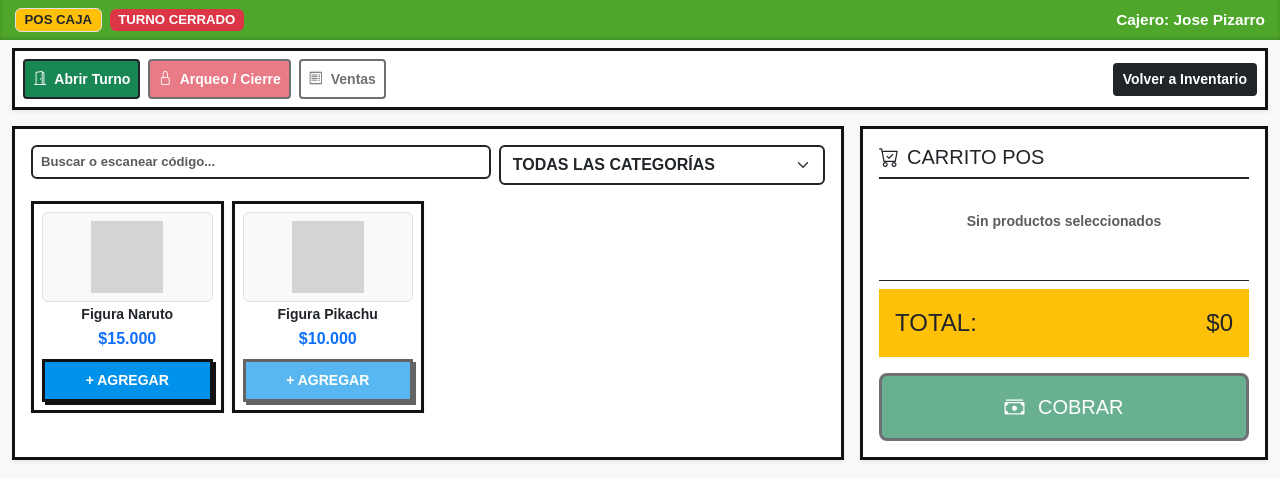
POS › filtra los productos por categoría
Select "POKÉMON" in the dropdown. click: (662, 165)
box: [499, 145, 825, 185]
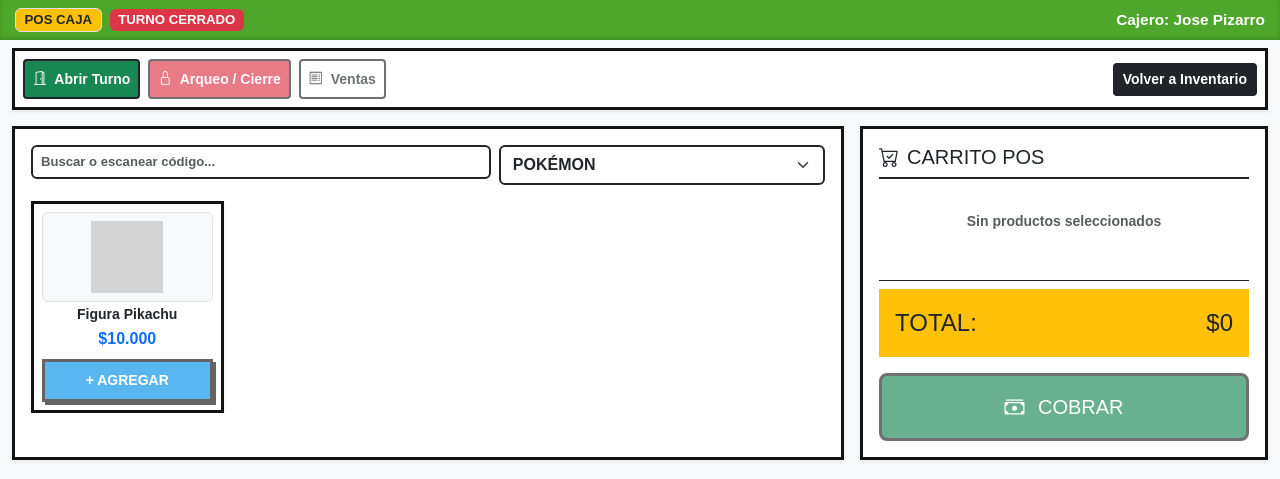
expect the heading "Figura Pikachu" is shown: met, box [77, 306, 178, 322]
expect the heading "Figura Naruto" is gone: met
